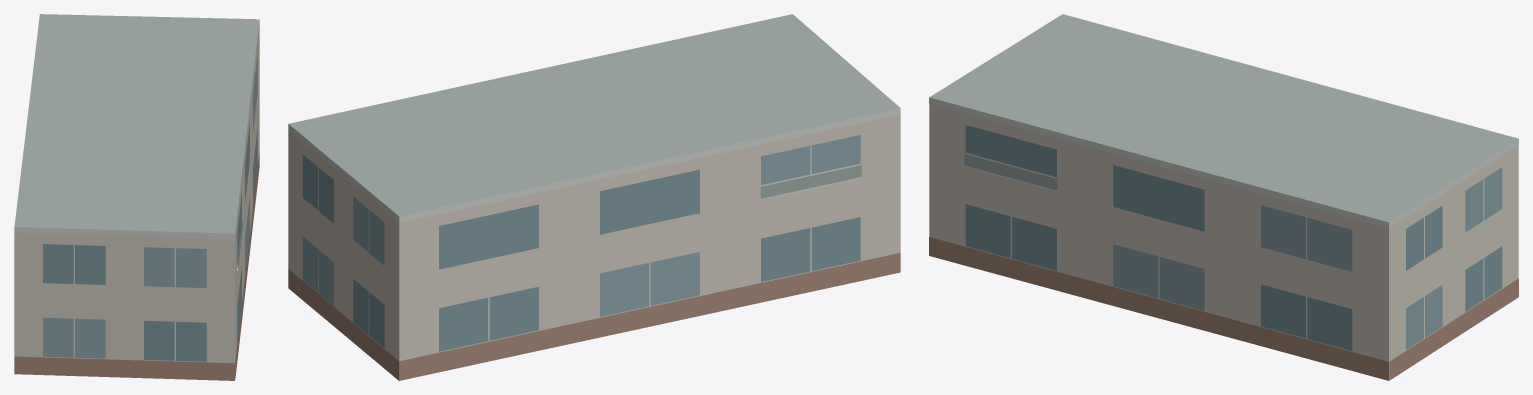
File: survey-upis-32818474.glb
The picture shows the model from 3 angles, left to right: view 1: azimuth 30°, elevation 25°; view 2: azimuth 150°, elevation 25°; view 3: azimuth 270°, elevation 25°; orthographic projection. The views are drawn at different scales.
Parts seen in each view (by area): view 1: survey-upis-32818474.tmp; view 2: survey-upis-32818474.tmp; view 3: survey-upis-32818474.tmp.
Boxes of the visible parts, x1,y1,x2,y2 form: survey-upis-32818474.tmp: [14, 14, 259, 380]; survey-upis-32818474.tmp: [288, 14, 900, 380]; survey-upis-32818474.tmp: [929, 14, 1518, 380].
Bounding box in the file's own units: 17.2 × 6.1 × 20.57.
